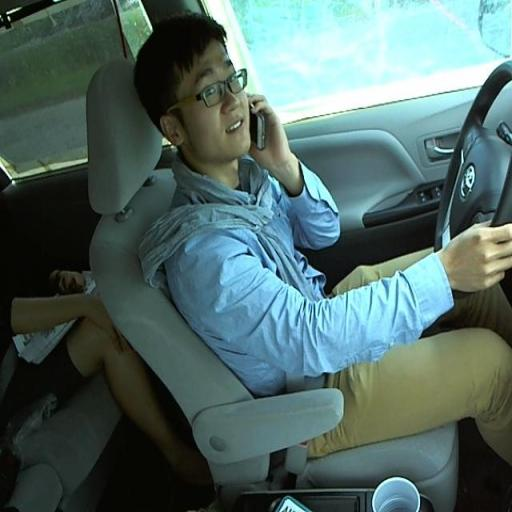talking_phone: (133, 88, 512, 369)
